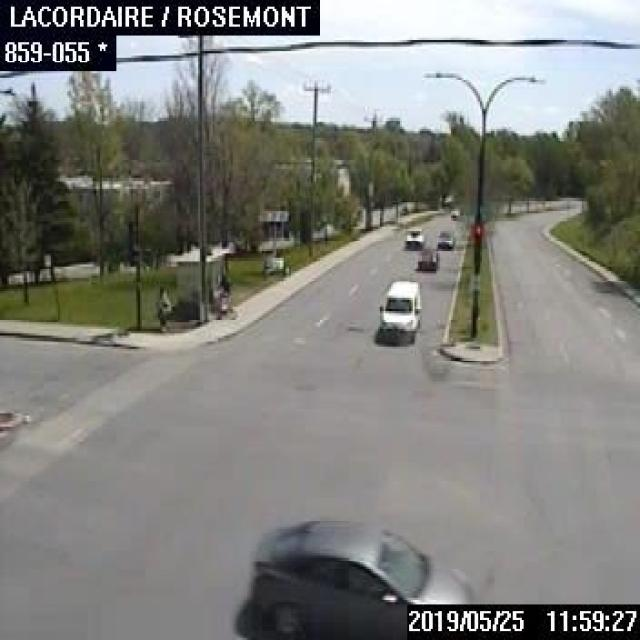construction: (259, 207, 289, 274)
pedestrian: (154, 284, 170, 332), (215, 272, 231, 318)
vehicle: (249, 518, 473, 638), (375, 279, 419, 342), (416, 246, 436, 270), (402, 226, 423, 248), (434, 228, 454, 248), (449, 208, 461, 216)
